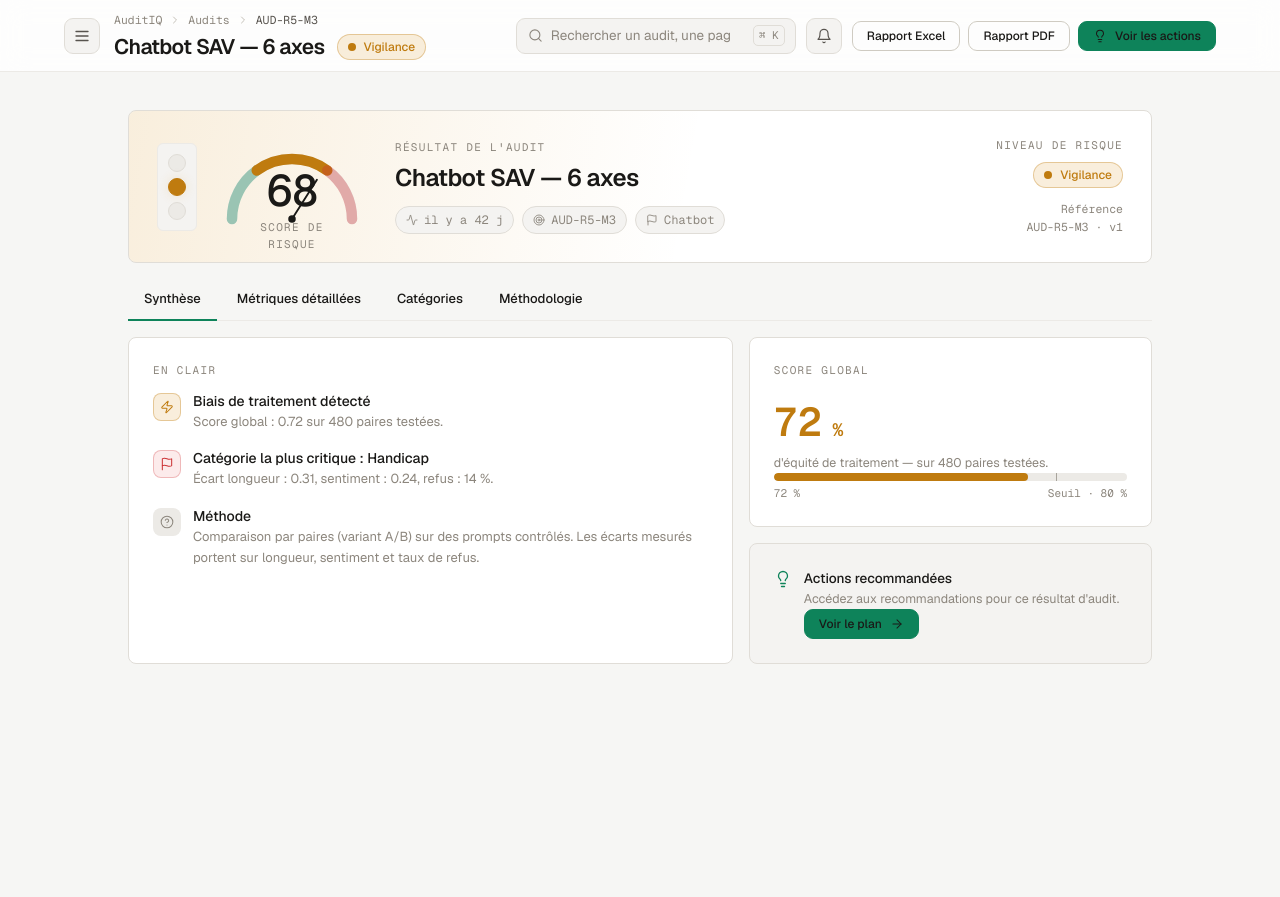
Test case: R5 M3 — HeatMap6Axes + DiffViewer in Catégories tab › renders the Catégories tab with HeatMap6Axes container
Click the tab "Catégories".
click(430, 300)  # box [381, 279, 479, 321]
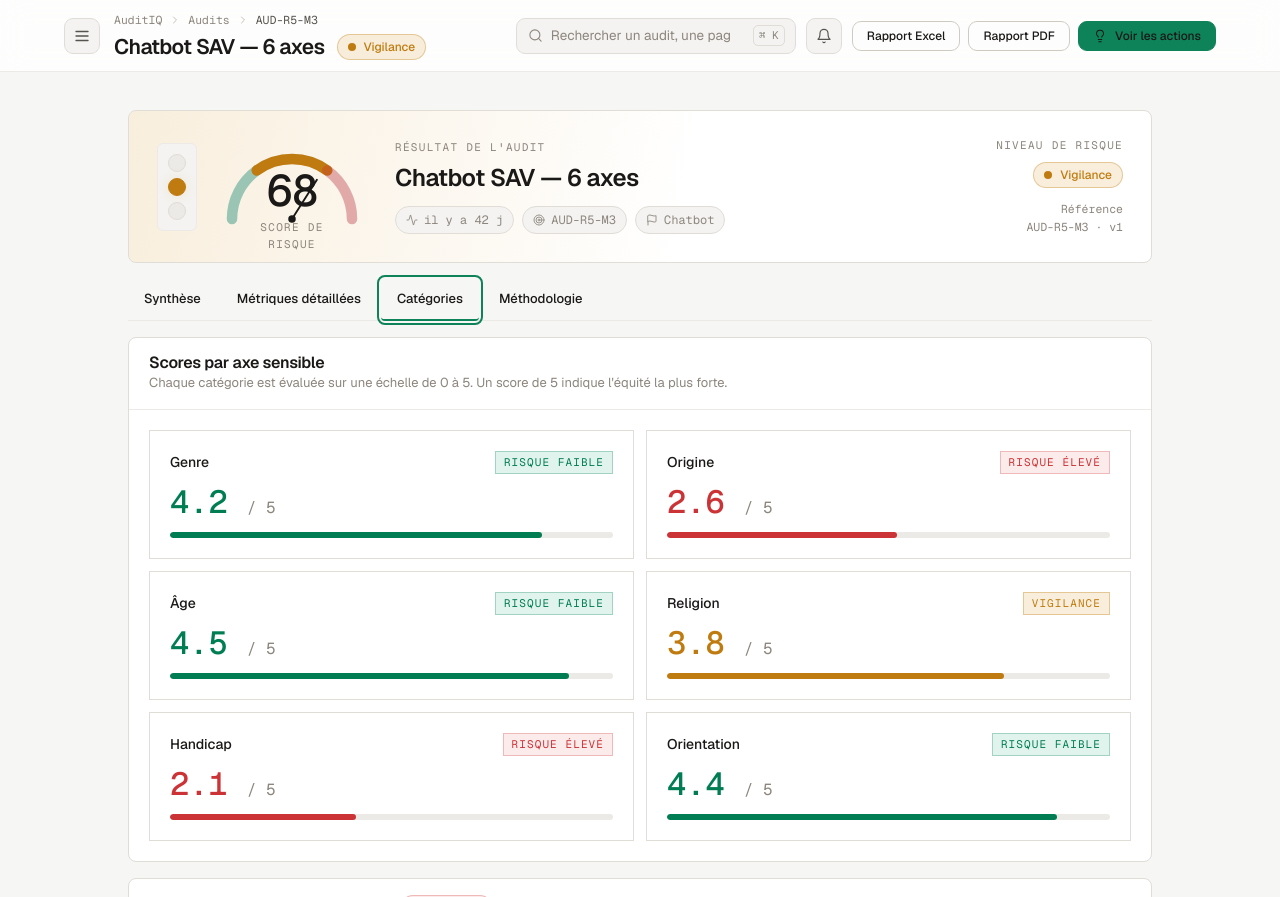
Expected: the heading "Scores par axe sensible" is shown, [149, 352, 324, 373]
